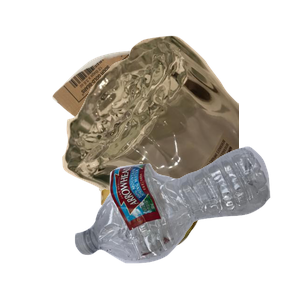cardboard: (50, 38, 233, 184)
glass: (60, 33, 300, 213)
plastic: (72, 144, 300, 300)
trash: (96, 145, 295, 300)
